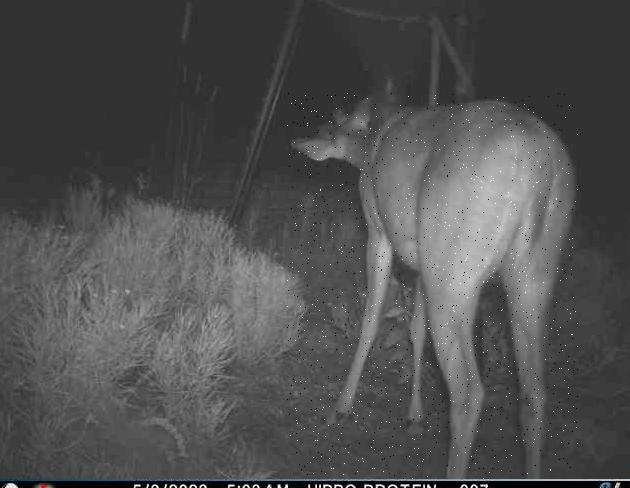Deer: (287, 93, 578, 479)
